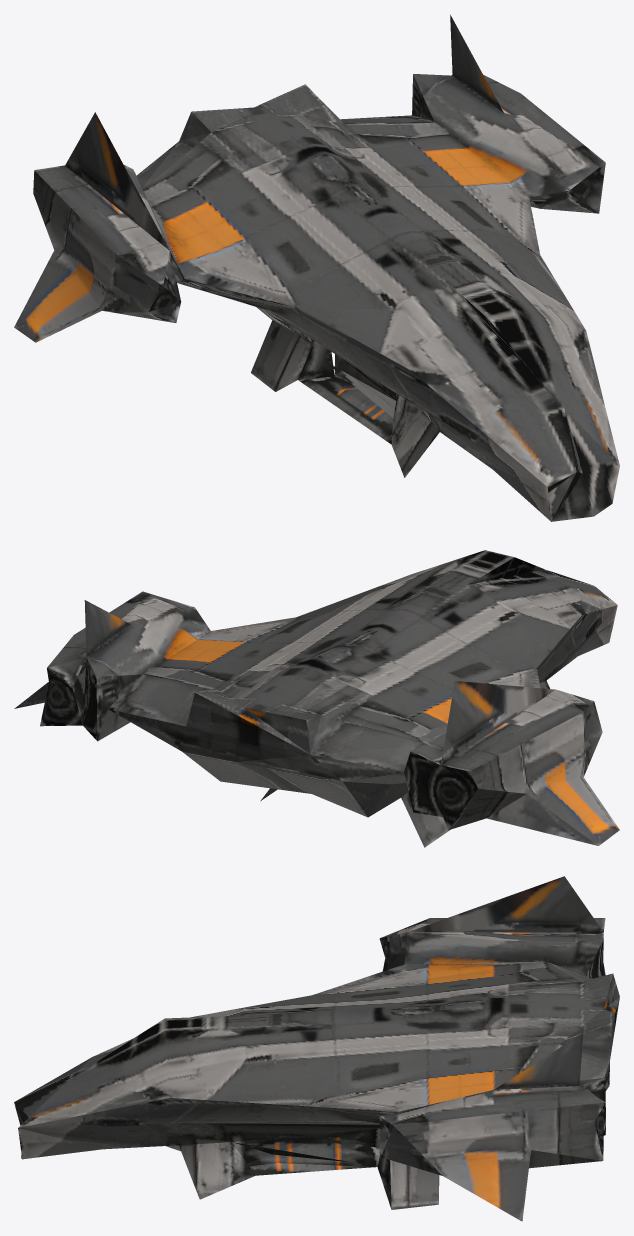
File: hard-300.glb
The picture shows the model from 3 angles, top to bottom: view 1: azimuth 30°, elevation 25°; view 2: azimuth 150°, elevation 25°; view 3: azimuth 270°, elevation 25°; orthographic projection. The views are drawn at different scales.
Visible parts, largest first — view 1: Low; view 2: Low; view 3: Low.
Boxes of the visible parts, bbox=[...] form: Low: bbox=[14, 14, 619, 521]; Low: bbox=[14, 550, 619, 847]; Low: bbox=[14, 876, 619, 1221].
Bounding box in the file's own units: 0.945 × 0.3793 × 0.9591.
1 material, 1 textured.
